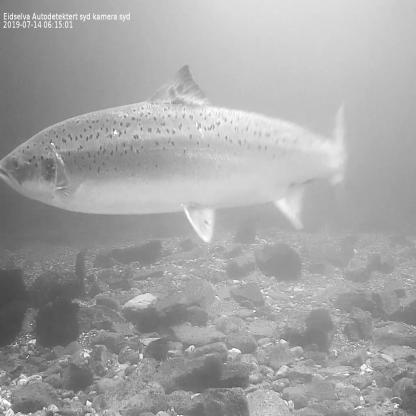salmon: (0, 60, 354, 246)
